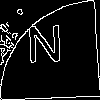N: (25, 25, 64, 72)
